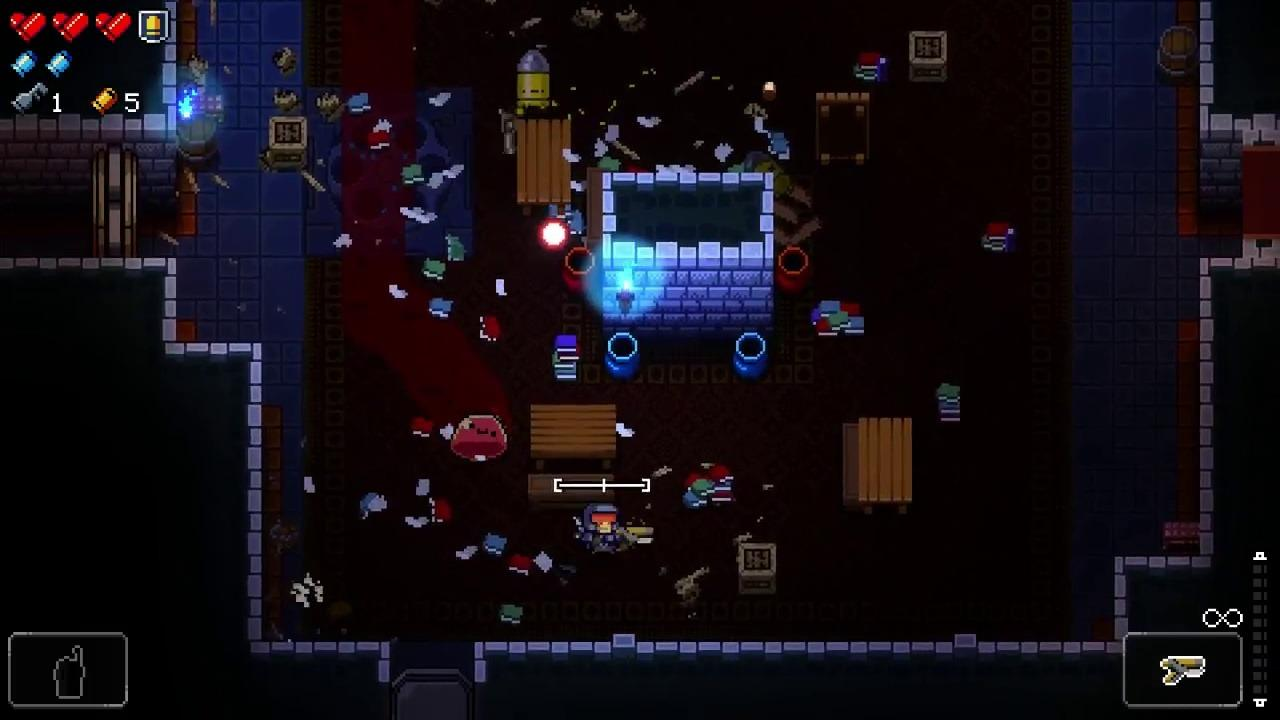blobulon_l: (450, 413, 508, 463)
bullet: (540, 221, 568, 250)
bullet_kin: (515, 47, 554, 115)
locked_door: (94, 142, 139, 257), (391, 667, 472, 720)
player: (582, 501, 624, 556)
table: (530, 406, 618, 471), (517, 118, 571, 218), (858, 417, 913, 514), (815, 94, 873, 166)
teleporter: (303, 84, 474, 254)
wall: (603, 173, 774, 335)
